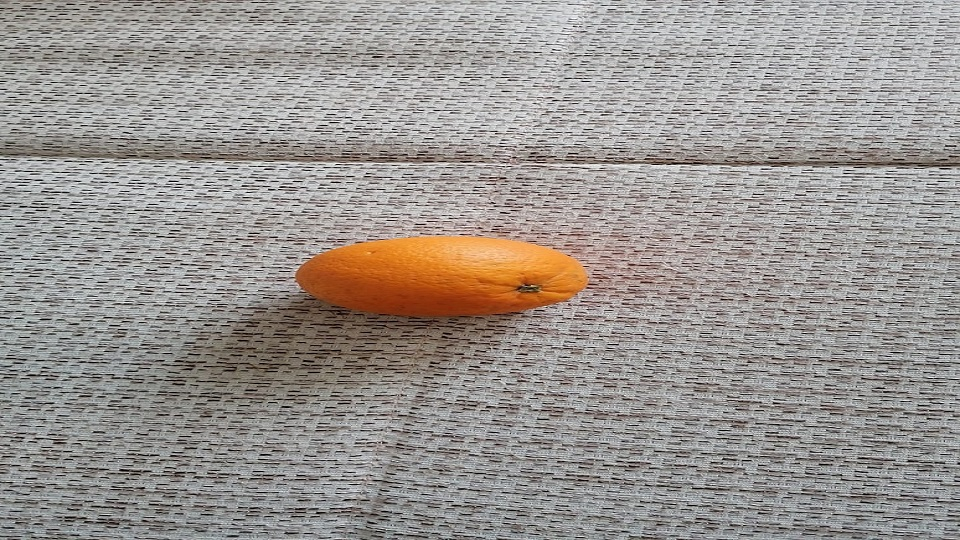portakal: (296, 234, 590, 316)
